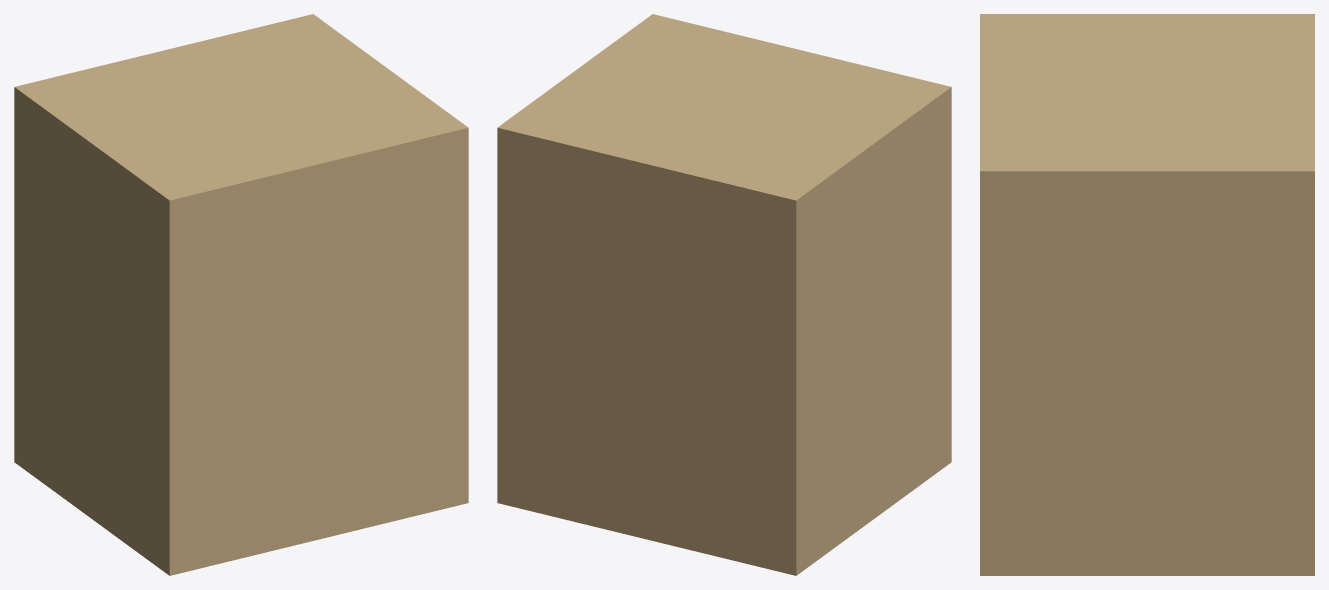
The model's file is sack.glb.
3 views of the same model, side by side, from view 1: azimuth 30°, elevation 25°; view 2: azimuth 150°, elevation 25°; view 3: azimuth 270°, elevation 25° (orthographic). The views are drawn at different scales.
Parts seen in each view (by area): view 1: sack; view 2: sack; view 3: sack.
Part boxes in pixels (x1=…): sack: x1=14, y1=14, x2=468, y2=575; sack: x1=497, y1=14, x2=951, y2=575; sack: x1=980, y1=14, x2=1314, y2=575.
Size of the model in its own units: 0.5 by 0.6 by 0.45.
